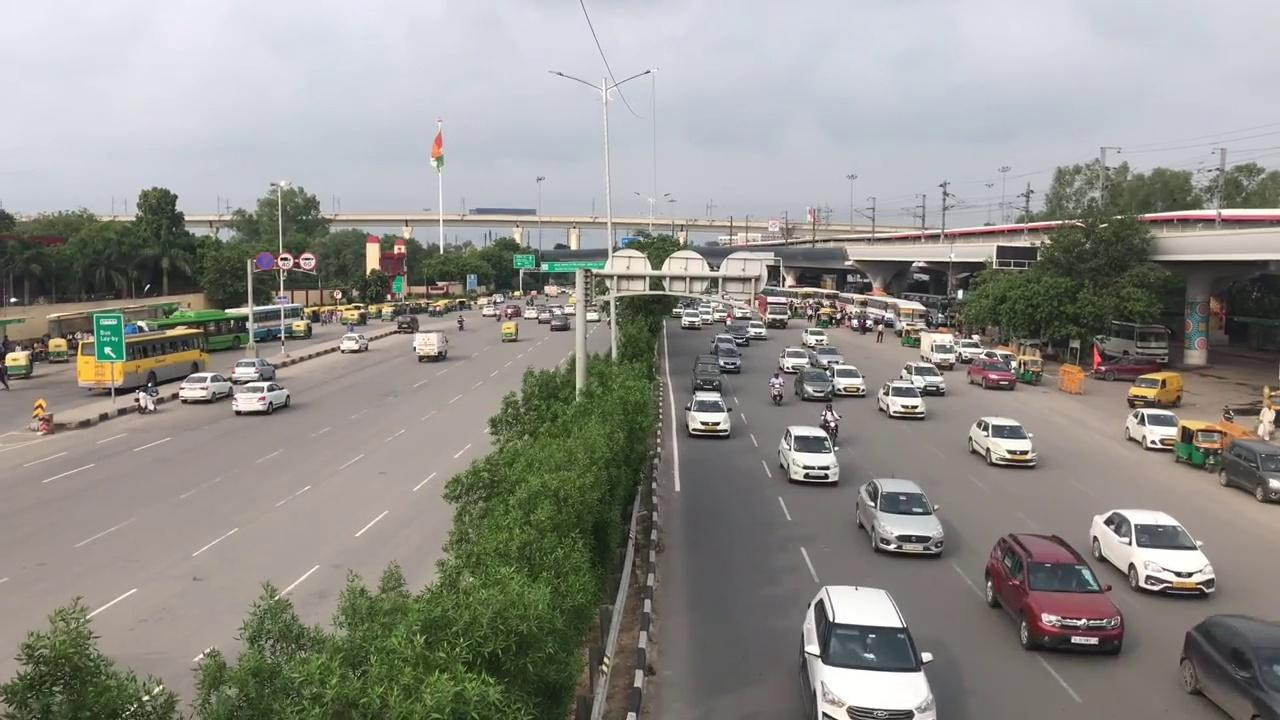Auto: (1174, 418, 1226, 474)
Bike: (769, 370, 785, 407)
Car: (798, 584, 938, 720), (982, 529, 1124, 657), (1089, 505, 1215, 594), (1179, 613, 1280, 719), (858, 473, 946, 558), (1220, 431, 1280, 505), (969, 414, 1040, 470), (778, 424, 839, 488), (684, 388, 733, 440), (875, 379, 926, 419), (794, 366, 832, 401), (831, 364, 867, 399)
